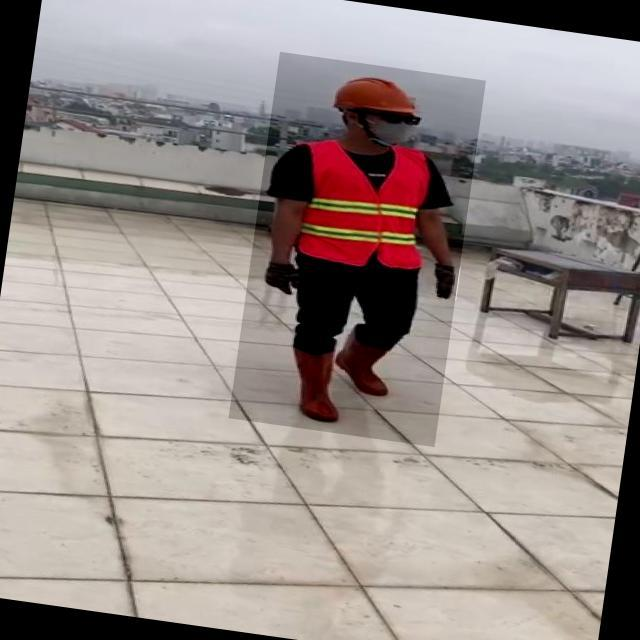Gloves: (260, 261, 307, 297), (429, 263, 461, 301)
Helmet: (332, 70, 429, 125)
Human: (229, 52, 486, 447)
Safety Boot: (280, 345, 350, 424), (334, 323, 400, 398)
Safety Vest: (288, 136, 437, 273)
